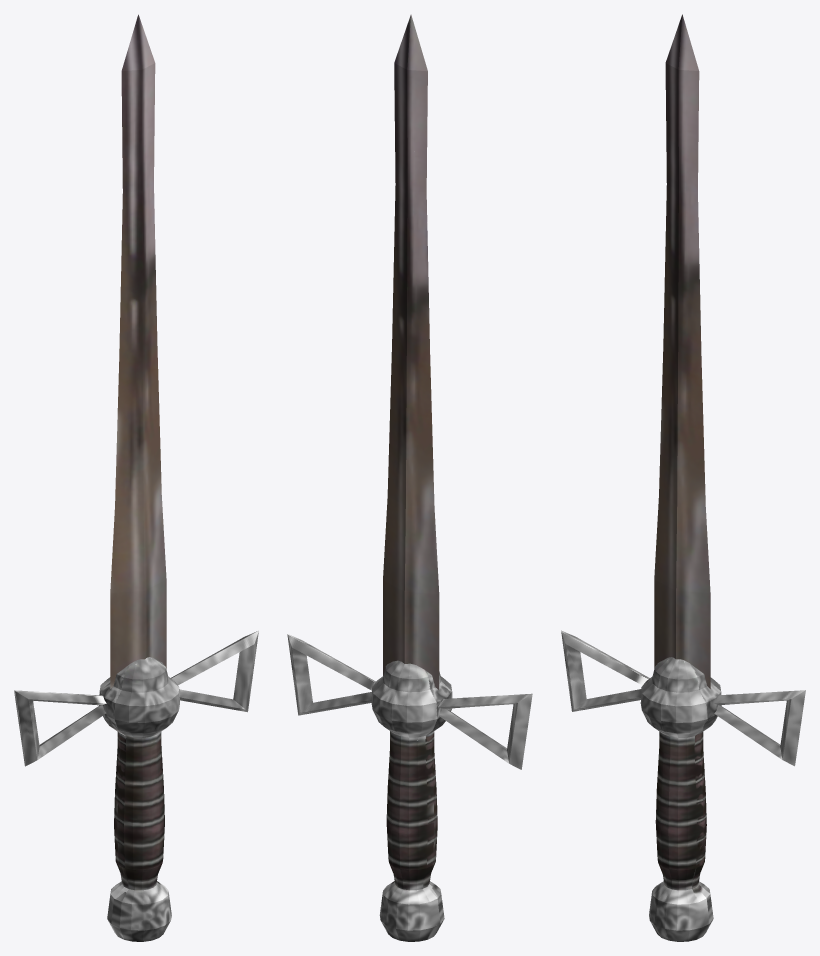
The model's file is Sword.fbx.
3 views of the same model, side by side, from view 1: azimuth 30°, elevation 25°; view 2: azimuth 150°, elevation 25°; view 3: azimuth 330°, elevation 25° (orthographic).
Visible parts, largest first — view 1: Circle.001, Circle, Torus.001, Torus; view 2: Circle.001, Circle, Torus.001, Torus; view 3: Circle.001, Circle, Torus, Torus.001.
Part boxes in pixels (box(x1,y1,x2,y2)): Circle.001: box(110, 14, 166, 688); Circle: box(99, 657, 179, 941); Torus.001: box(14, 690, 106, 766); Torus: box(171, 630, 258, 712); Circle.001: box(383, 14, 439, 689); Circle: box(371, 660, 452, 941); Torus.001: box(438, 693, 532, 769); Torus: box(287, 634, 375, 715); Circle.001: box(654, 14, 710, 688); Circle: box(640, 657, 721, 941); Torus: box(714, 690, 805, 766); Torus.001: box(561, 630, 649, 711).
Bounding box in the file's own units: 1.25 × 4.5 × 0.361.
Materials: 1 (1 with a texture image).
